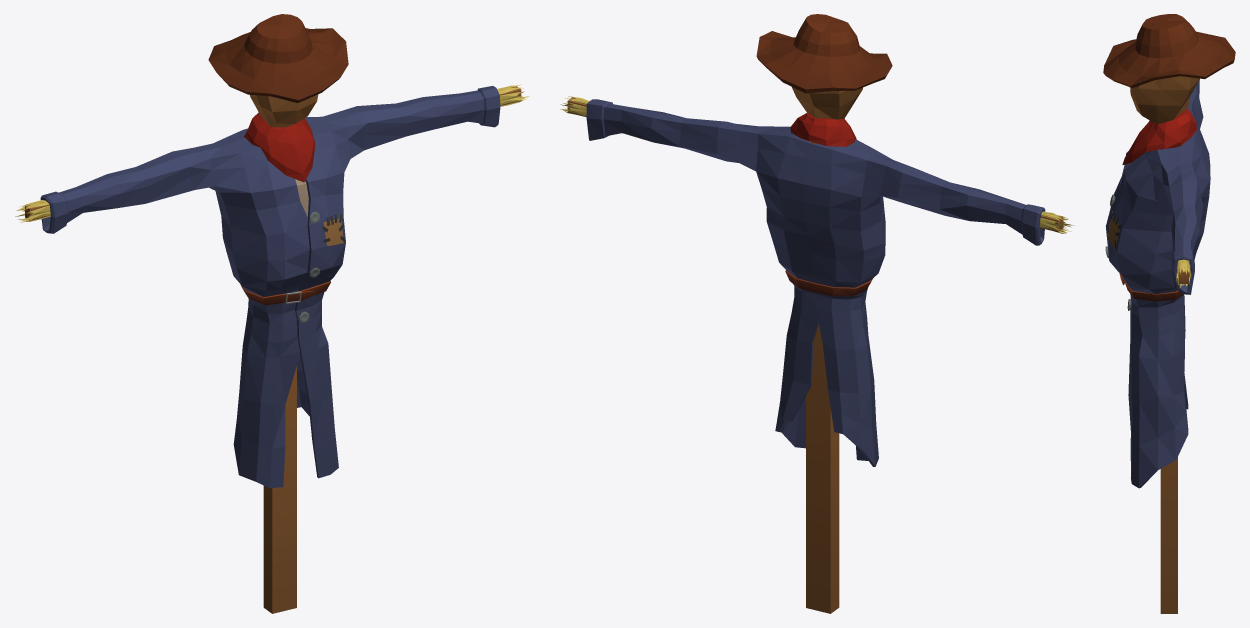
File: Prop_Scarecrow_02.obj
3 views of the same model, side by side, from view 1: azimuth 30°, elevation 25°; view 2: azimuth 150°, elevation 25°; view 3: azimuth 270°, elevation 25° (orthographic).
Visible parts, largest first — view 1: Prop_Scarecrow_02; view 2: Prop_Scarecrow_02; view 3: Prop_Scarecrow_02.
Boxes of the visible parts, x1=… form: Prop_Scarecrow_02: x1=15, y1=14, x2=529, y2=613; Prop_Scarecrow_02: x1=560, y1=14, x2=1074, y2=613; Prop_Scarecrow_02: x1=1103, y1=14, x2=1235, y2=613.
Size of the model in its own units: 2 by 2.2 by 0.4484.
Materials: 1 (1 with a texture image).
